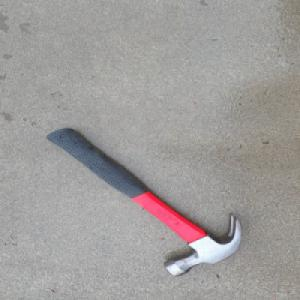Hammer: (44, 126, 242, 272)
